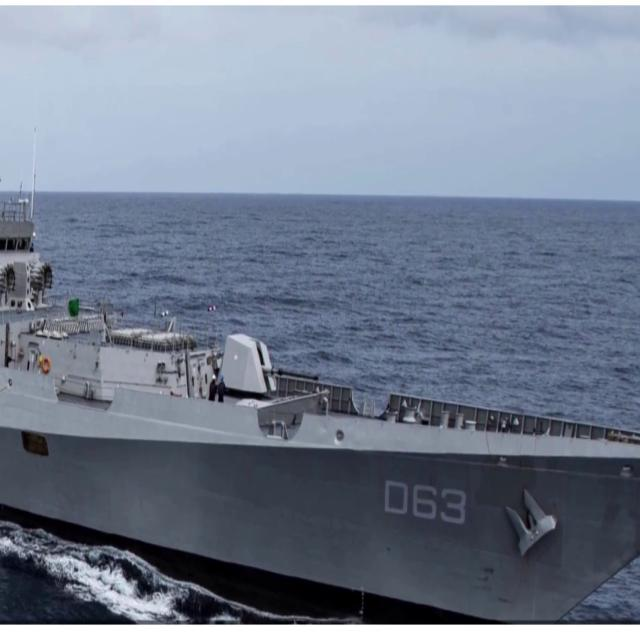OCR: (382, 470, 469, 539)
